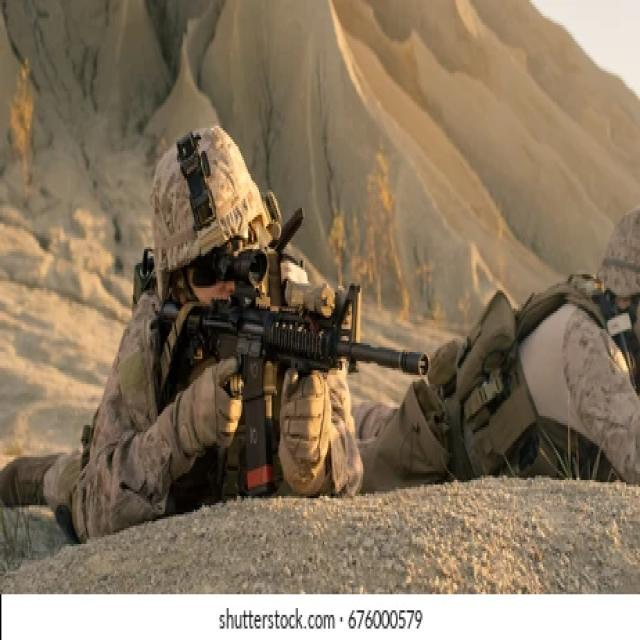soldier: (1, 124, 429, 544)
